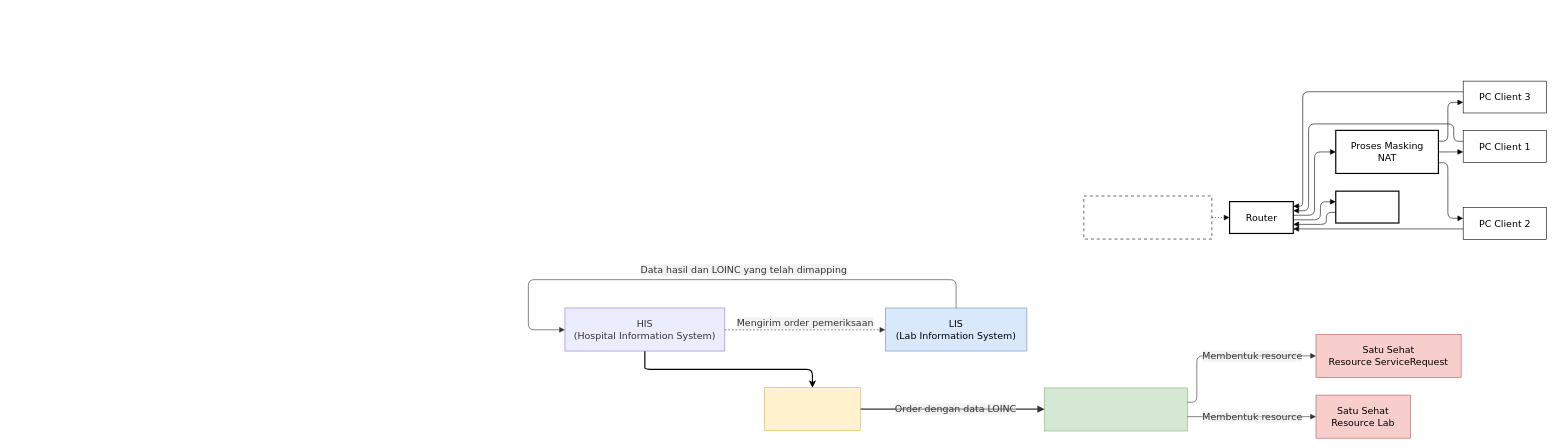
Image size: 1556x448. Some labels were removed from this diagram. The centre of each missing label's shape, as x and y in pixels:
KEMENKES (Kementerian Kesehatan): point 1115,409
Mapping Data Hasil + LOINC: point 812,409
Server: point 1367,206
Server membaca 1 IP publik yang sama: point 1147,217
